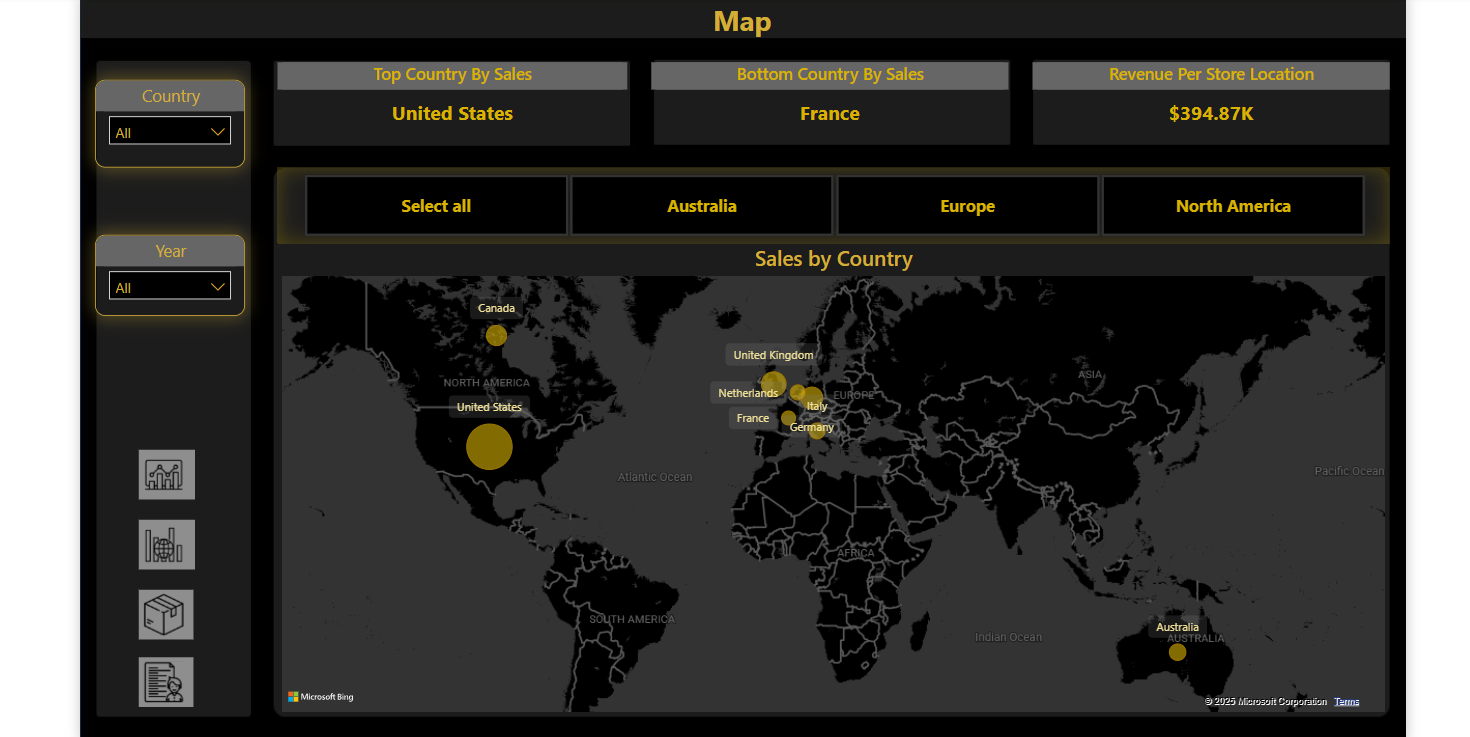

What the dashboard file says about the page in this screenshot:
{"tool":"powerbi","page":{"name":"Map ","canvas":[1280,720],"ordinal":1},"visuals":[{"type":"map","title":"Sales by Country","fields":{"Category":["Stores.Country"],"Size":["Measure Table.Total Revenue"]},"box":[190.6,238.9,1073.7,457.2],"z":0},{"type":"slicer","fields":{"Values":["Customers.Continent"]},"box":[190.6,165.3,1073.7,73.6],"z":1000},{"type":"card","title":"Top Country By Sales","fields":{"Values":["Min(Stores.Country)"]},"box":[190.6,63.9,337.8,79.6],"z":2000},{"type":"card","title":"Bottom Country By Sales","fields":{"Values":["Min(Stores.Country)"]},"box":[551.3,63.9,345,79.6],"z":3000},{"type":"card","title":"Revenue Per Store Location","fields":{"Values":["Measure Table.Revenue per Store"]},"box":[919.3,63.9,345,79.6],"z":4000},{"type":"actionButton","box":[56.7,438.2,54.3,48.3],"z":5000},{"type":"actionButton","box":[56.7,505.7,54.3,48.3],"z":6000},{"type":"actionButton","box":[56.7,573.3,53.1,48.3],"z":7000},{"type":"actionButton","box":[56.7,638.4,53.1,48.3],"z":8000},{"type":"slicer","title":"Country","fields":{"Values":["Stores.Country"]},"box":[14.5,80.8,144.8,84.5],"z":9000},{"type":"slicer","title":"Year","fields":{"Values":["Sales.Year"]},"box":[14.5,230.4,144.8,78.4],"z":10000},{"type":"textbox","box":[302.9,0,672.7,56.9],"z":11000}]}

Visuals, with their boxes on the page's 1280x720 design canvas (x1, y1, x2, y2). These are canvas units, not pixel positions in the 1470x737 screenshot, which may show the page scaled, cropped or inside an application window:
"Sales by Country" map: <box>191,239,1264,696</box>
slicer - Customers.Continent: <box>191,165,1264,239</box>
"Top Country By Sales" card: <box>191,64,528,144</box>
"Bottom Country By Sales" card: <box>551,64,896,144</box>
"Revenue Per Store Location" card: <box>919,64,1264,144</box>
actionButton: <box>57,438,111,486</box>
actionButton: <box>57,506,111,554</box>
actionButton: <box>57,573,110,622</box>
actionButton: <box>57,638,110,687</box>
"Country" slicer: <box>14,81,159,165</box>
"Year" slicer: <box>14,230,159,309</box>
textbox: <box>303,0,976,57</box>
